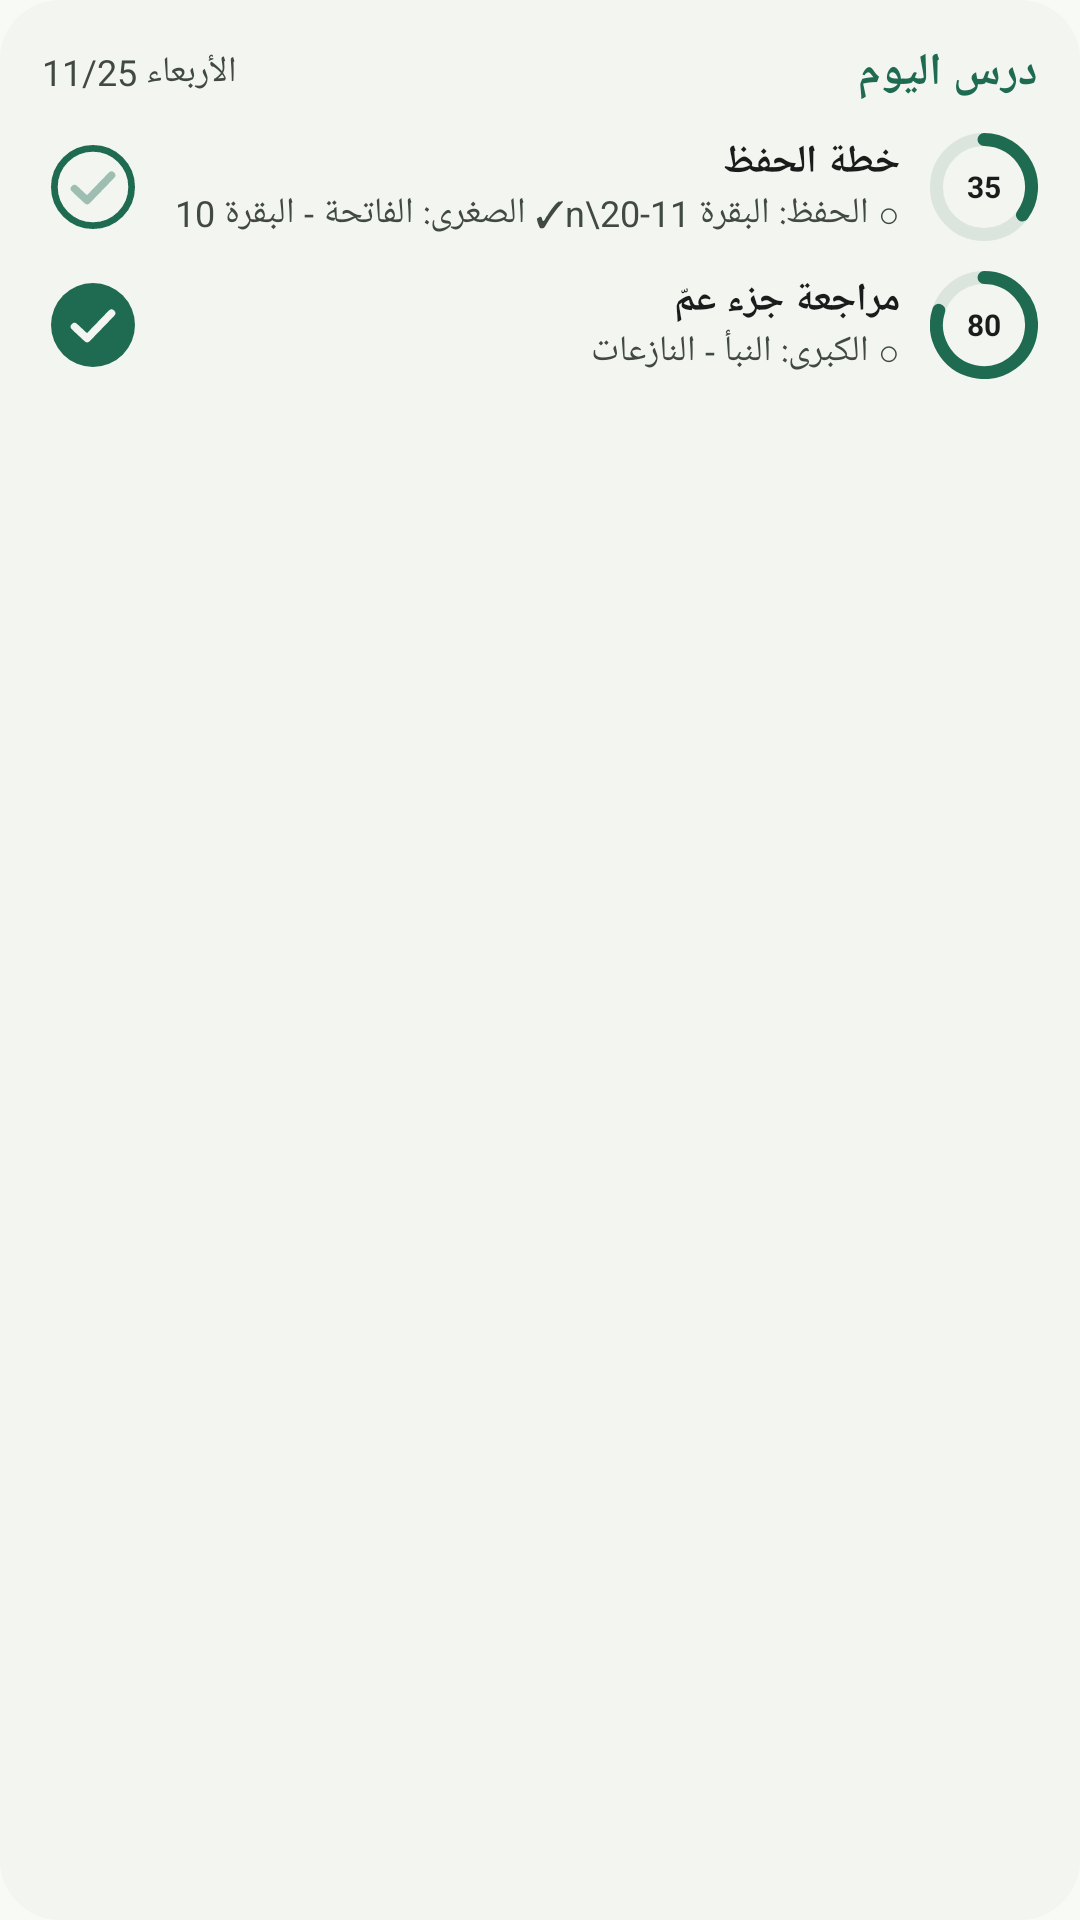

Where to tap for icons on this 1080px x 1920px app screen, as (x=x, y=y):
widget check: (x=93, y=187)
widget check done: (x=93, y=325)
widget ring most: (x=984, y=325)
